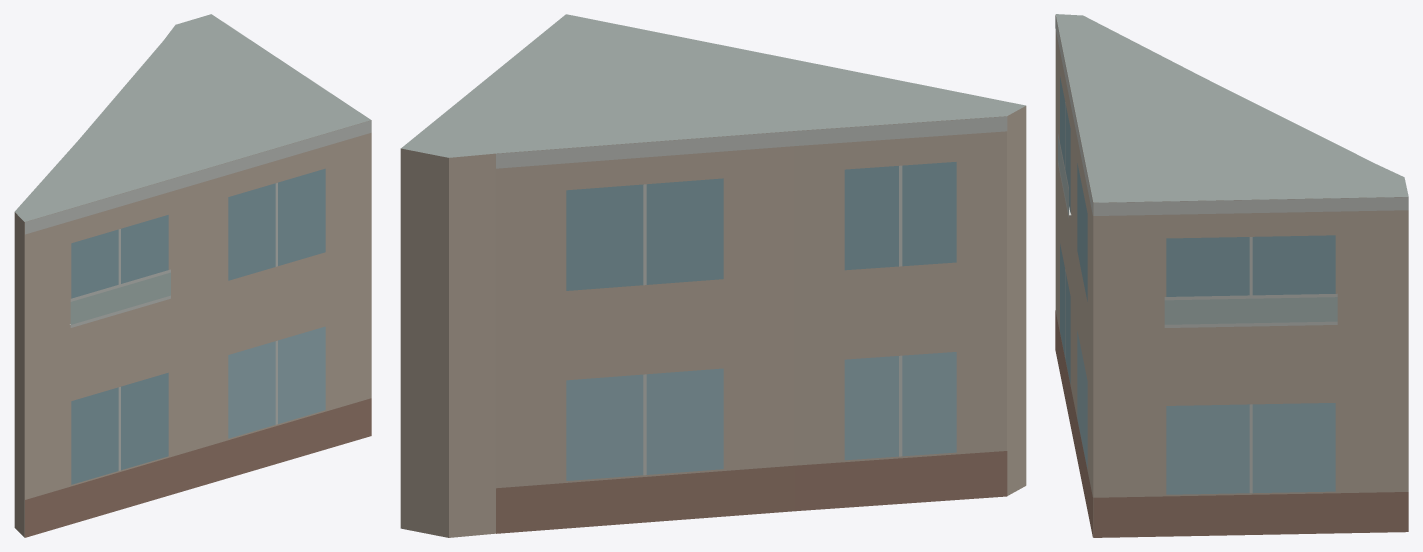
Rendered from survey-upis-32460062.glb.
3 renders of one model, left to right at view 1: azimuth 30°, elevation 25°; view 2: azimuth 150°, elevation 25°; view 3: azimuth 270°, elevation 25°, orthographic. The views are drawn at different scales.
Parts seen in each view (by area): view 1: survey-upis-32460062.tmp; view 2: survey-upis-32460062.tmp; view 3: survey-upis-32460062.tmp.
Boxes of the visible parts, x1=… form: survey-upis-32460062.tmp: x1=14, y1=14, x2=371, y2=537; survey-upis-32460062.tmp: x1=400, y1=14, x2=1026, y2=537; survey-upis-32460062.tmp: x1=1055, y1=14, x2=1408, y2=537.
Size of the model in its own units: 7.38 by 6.1 by 5.83.
